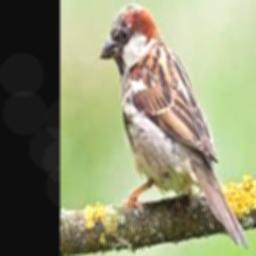Sparrow: (98, 3, 247, 247)
